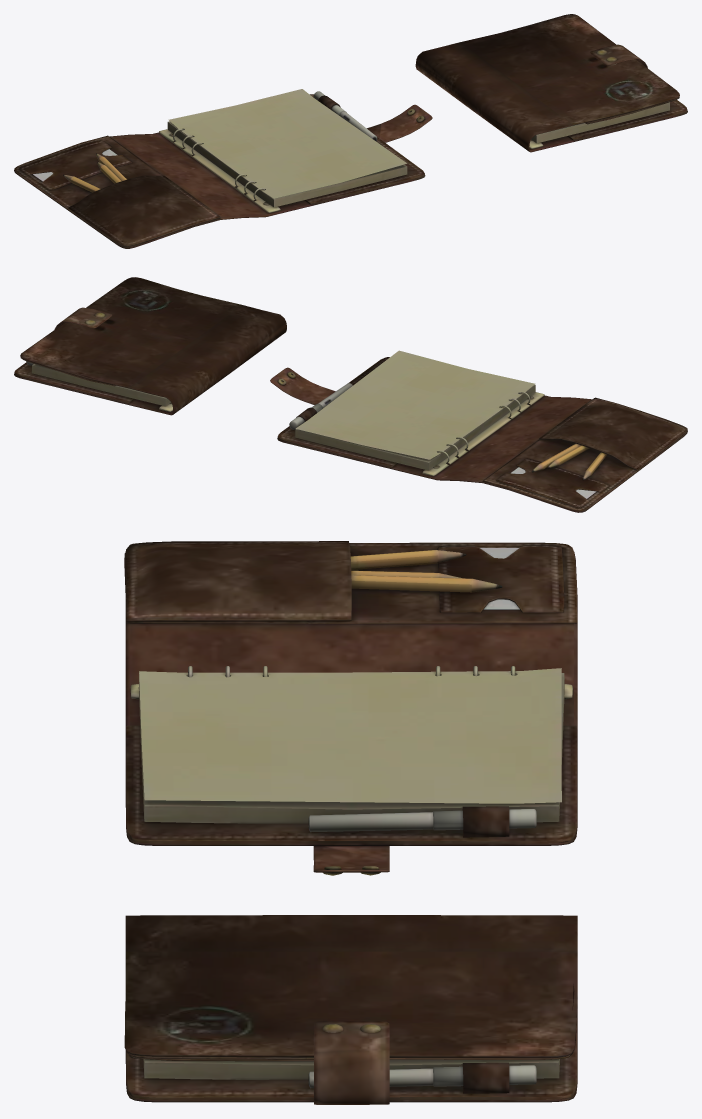
Rendered from binder_notebook.glb.
The picture shows the model from 3 angles, top to bottom: view 1: azimuth 30°, elevation 25°; view 2: azimuth 150°, elevation 25°; view 3: azimuth 270°, elevation 25°; orthographic projection. The views are drawn at different scales.
Visible parts, largest first — view 1: binder_notebook; view 2: binder_notebook; view 3: binder_notebook.
Boxes of the visible parts, bbox=[...] form: binder_notebook: bbox=[14, 14, 687, 248]; binder_notebook: bbox=[14, 277, 687, 512]; binder_notebook: bbox=[124, 541, 577, 1104].
Size of the model in its own units: 0.5839 by 0.0252 by 0.1999.
Materials: 1 (1 with a texture image).
